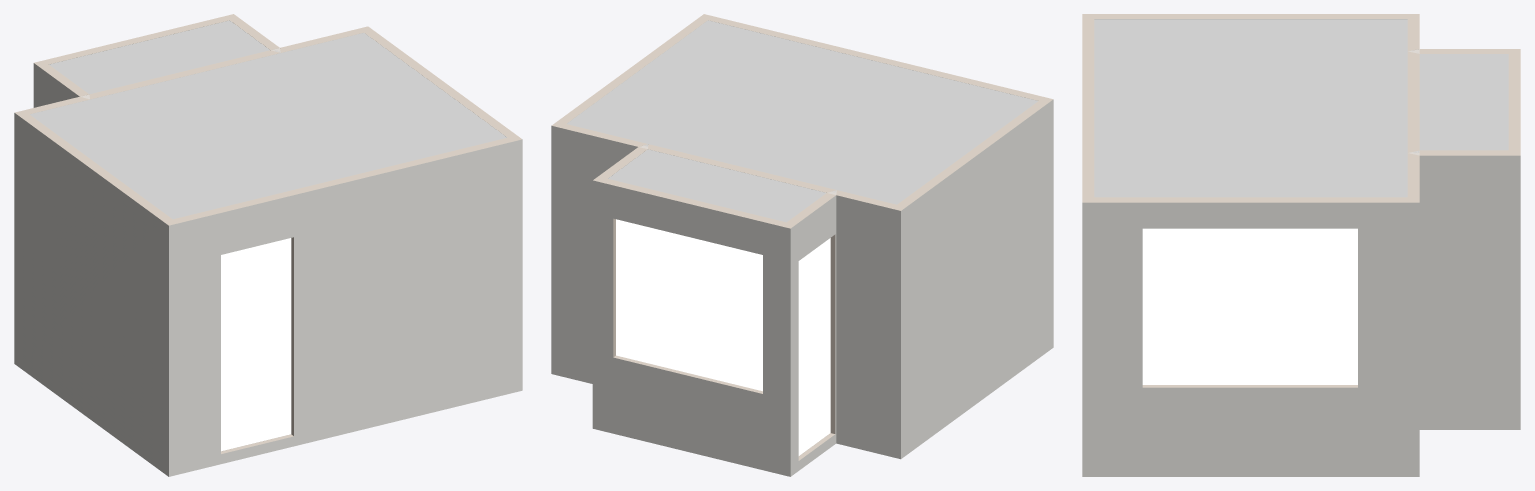
Rendered from room-scan.glb.
3 renders of one model, left to right at view 1: azimuth 30°, elevation 25°; view 2: azimuth 150°, elevation 25°; view 3: azimuth 270°, elevation 25°, orthographic. The views are drawn at different scales.
Parts seen in each view (by area): view 1: Wall_1, Ceiling_Bedroom, Wall_3, Door_0, Ceiling_Other, Wall_4, Wall_7, Wall_6, Wall_8, Wall_0; view 2: Ceiling_Bedroom, Wall_3, Wall_6, Window_0, Wall_2, Wall_0, Ceiling_Other, Door_1, Wall_4, Wall_1, Wall_7, Wall_8; view 3: Wall_7, Ceiling_Bedroom, Window_1, Wall_5, Ceiling_Other, Wall_1, Wall_3, Wall_6, Wall_8, Wall_0, Wall_4.
Boxes of the visible parts, x1,y1,x2,y2 form: Wall_1: (169,137,522,476); Ceiling_Bedroom: (30,33,506,219); Wall_3: (14,112,172,476); Door_0: (221,238,291,451); Ceiling_Other: (49,20,277,94); Wall_4: (33,63,88,107); Wall_7: (364,26,521,139); Wall_6: (34,14,233,64); Wall_8: (89,50,280,99); Wall_0: (280,26,367,52); Ceiling_Bedroom: (567,20,1037,204); Wall_3: (897,99,1053,458); Wall_6: (592,178,790,476); Window_0: (616,219,762,391); Wall_2: (836,190,900,459); Wall_0: (551,124,648,383); Ceiling_Other: (608,149,833,222); Door_1: (798,238,830,455); Wall_4: (787,193,836,476); Wall_1: (704,14,1052,100); Wall_7: (552,14,707,125); Wall_8: (648,144,836,192); Wall_7: (1082,197,1419,476); Ceiling_Bedroom: (1094,19,1412,197); Window_1: (1142,228,1357,384); Wall_5: (1419,150,1520,429); Ceiling_Other: (1413,54,1508,152); Wall_1: (1082,14,1094,202); Wall_3: (1083,14,1418,19); Wall_6: (1508,49,1520,155); Wall_8: (1407,51,1419,152); Wall_0: (1407,153,1419,202); Wall_4: (1419,49,1519,53).
Size of the model in its own units: 3.72 by 2.52 by 3.65.
Materials: 12 (2 with a texture image).
